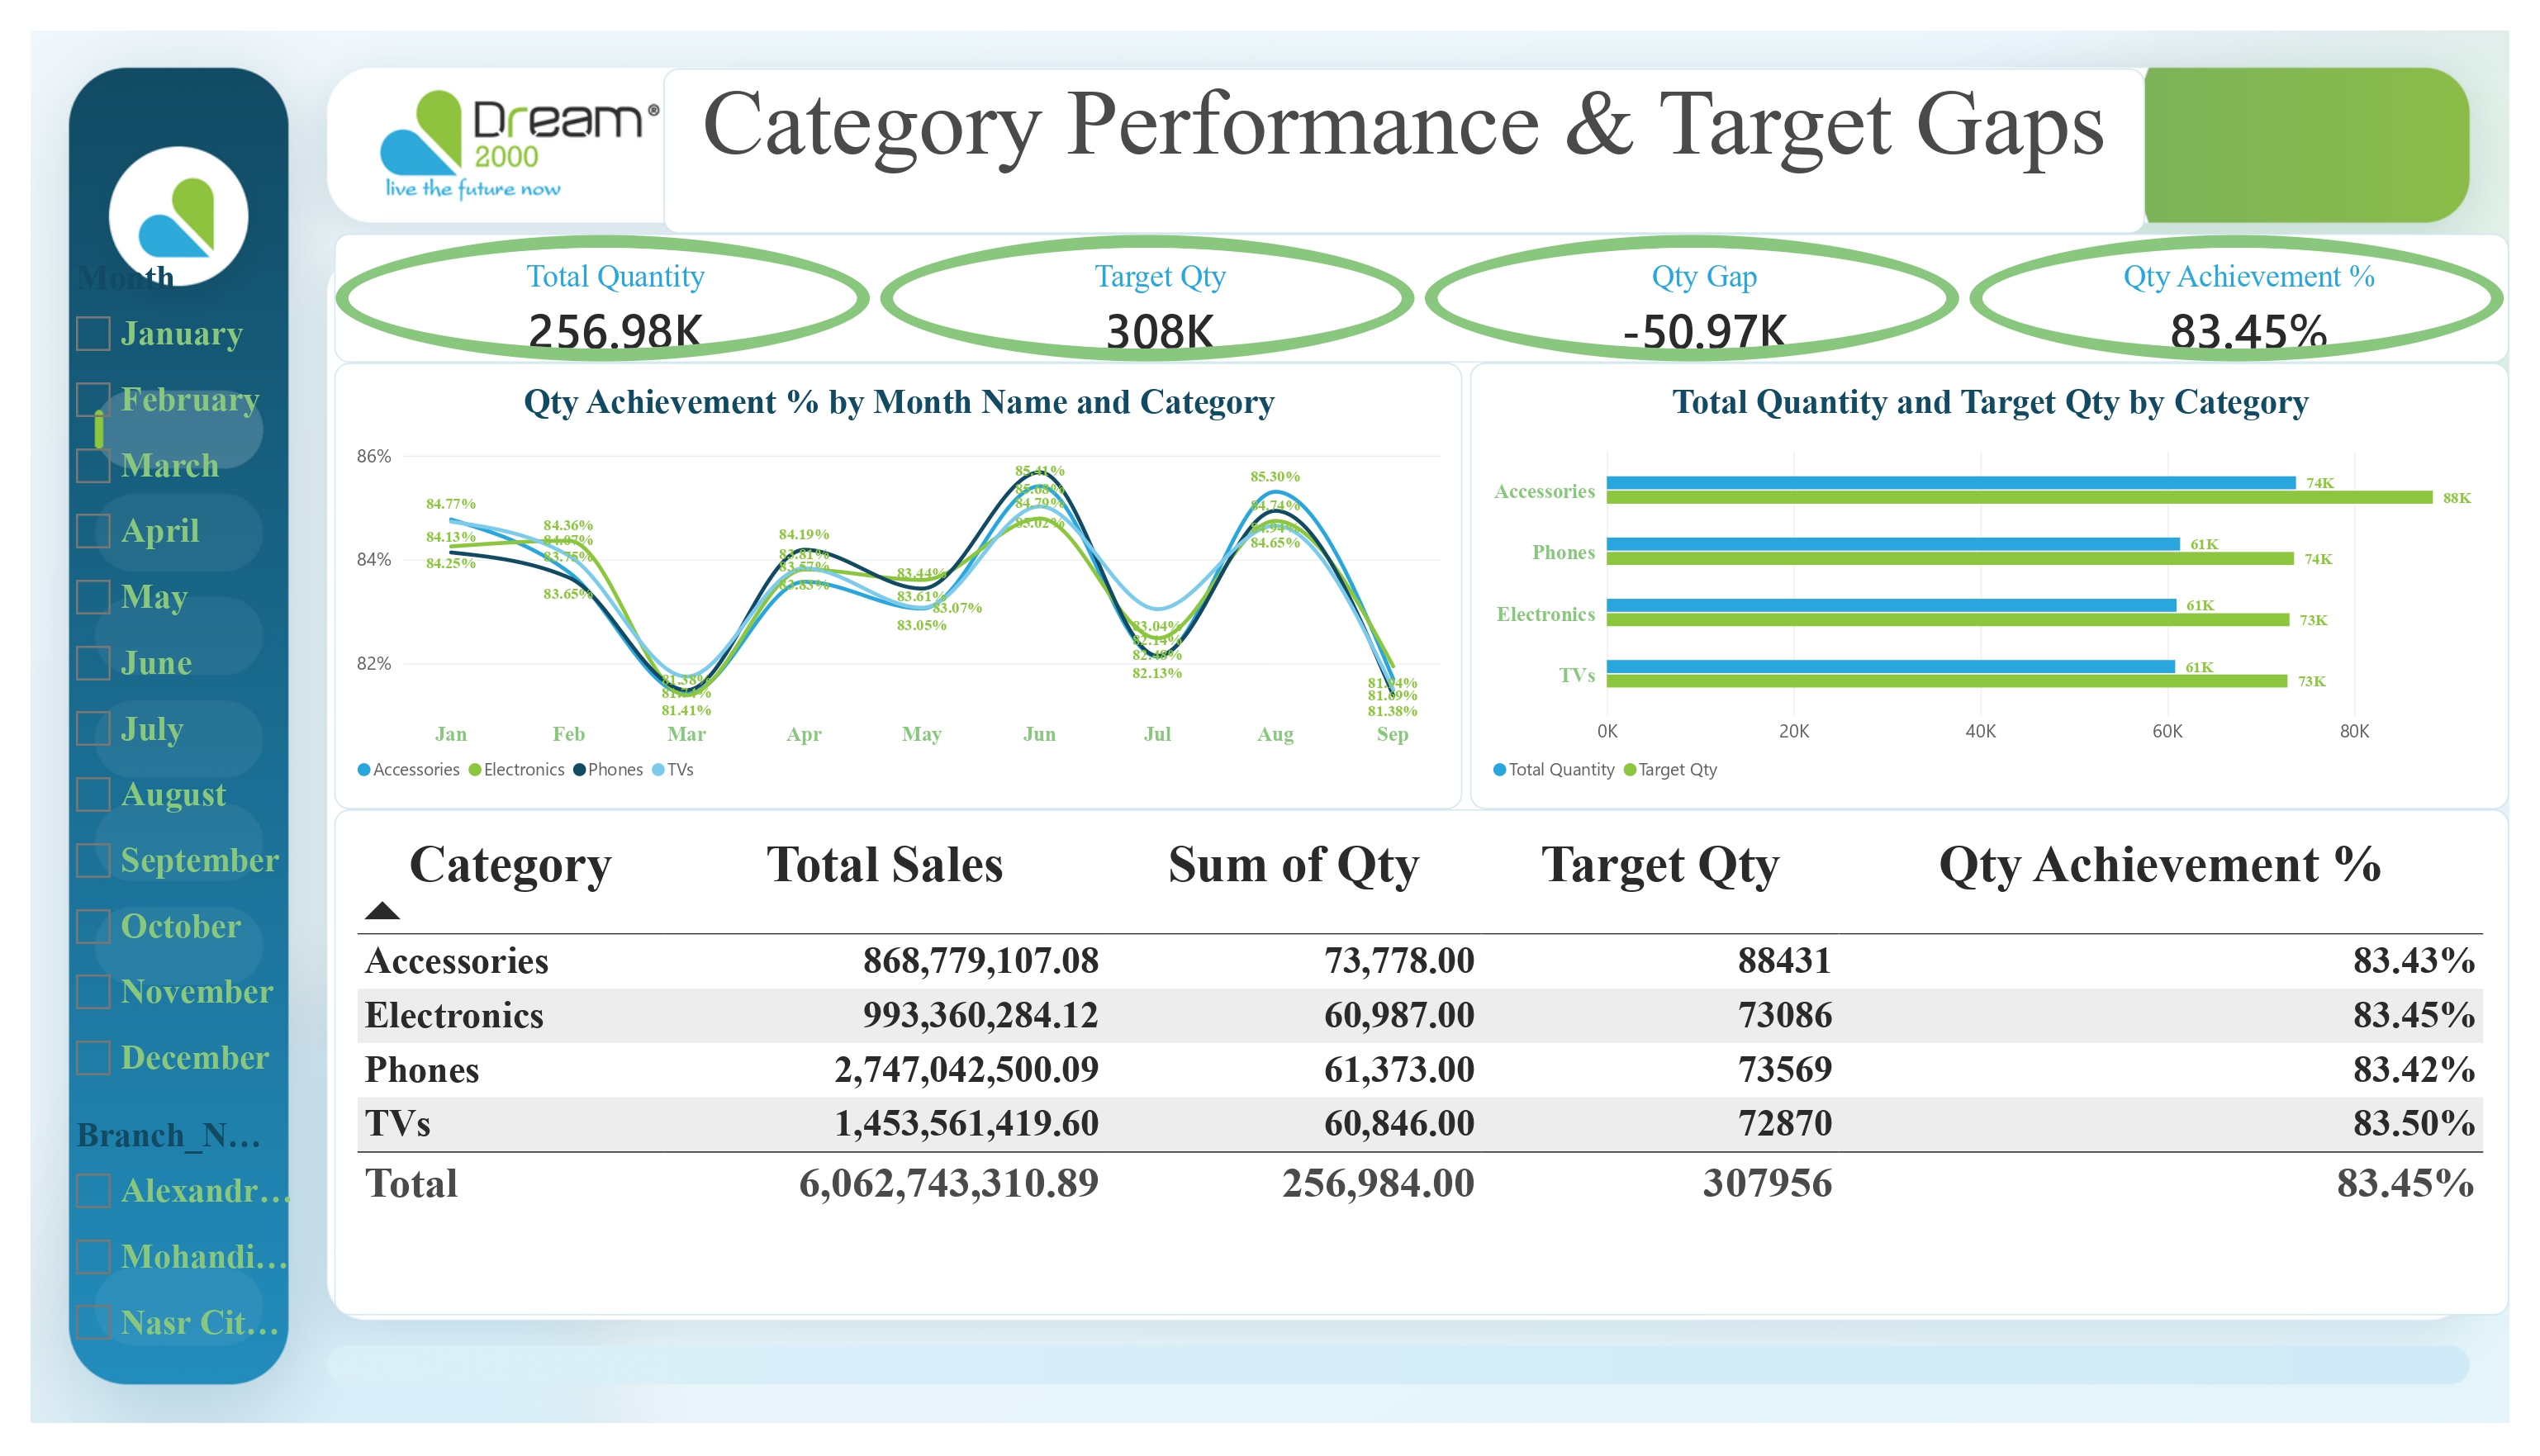

The page's visual inventory and layout, read from the dashboard file:
{"tool":"powerbi","page":{"name":"Category Performance & Target Gaps","canvas":[1920,1080],"ordinal":2},"visuals":[{"type":"textbox","box":[490.4,29,1147.3,128.5],"z":0},{"type":"cardVisual","fields":{"Data":["Table.Total Quantity","Targets_Table.Target Qty","Targets_Table.Qty Gap","Targets_Table.Qty Achievement %"]},"box":[235.3,157.4,1684.8,99.5],"z":1},{"type":"clusteredBarChart","fields":{"Category":["Products.Category"],"Y":["Table.Total Quantity","Targets_Table.Target Qty"]},"box":[1114.8,257,805.3,345.6],"z":2},{"type":"lineChart","fields":{"Category":["Date.Month Name"],"Series":["Products.Category"],"Y":["Targets_Table.Qty Achievement %"]},"box":[235.3,257,874.1,345.6],"z":3},{"type":"tableEx","fields":{"Values":["Products.Category","Table.Total Sales","Sum(Sales_Table.Qty)","Targets_Table.Target Qty","Targets_Table.Qty Achievement %"]},"box":[235.3,602.6,1684.8,392.7],"z":4},{"type":"slicer","fields":{"Values":["Employees_Table.Date_of_Birth.Variation.Date Hierarchy.Month"]},"box":[27.1,175.5,177.3,653.3],"z":5},{"type":"slicer","fields":{"Values":["Branches_Table.Branch_Name"]},"box":[27.1,839.7,177.3,204.5],"z":6}]}

Visuals, with their boxes on the page's 1920x1080 design canvas (x1, y1, x2, y2). These are canvas units, not pixel positions in the 2540x1456 screenshot, which may show the page scaled, cropped or inside an application window:
textbox: region(490, 29, 1638, 158)
cardVisual - Table.Total Quantity x Targets_Table.Target Qty: region(235, 157, 1920, 257)
clusteredBarChart - Products.Category x Table.Total Quantity: region(1115, 257, 1920, 603)
lineChart - Date.Month Name x Products.Category: region(235, 257, 1109, 603)
tableEx - Products.Category x Table.Total Sales: region(235, 603, 1920, 995)
slicer - Employees_Table.Date_of_Birth.Variation.Date Hierarchy.Month: region(27, 176, 204, 829)
slicer - Branches_Table.Branch_Name: region(27, 840, 204, 1044)
